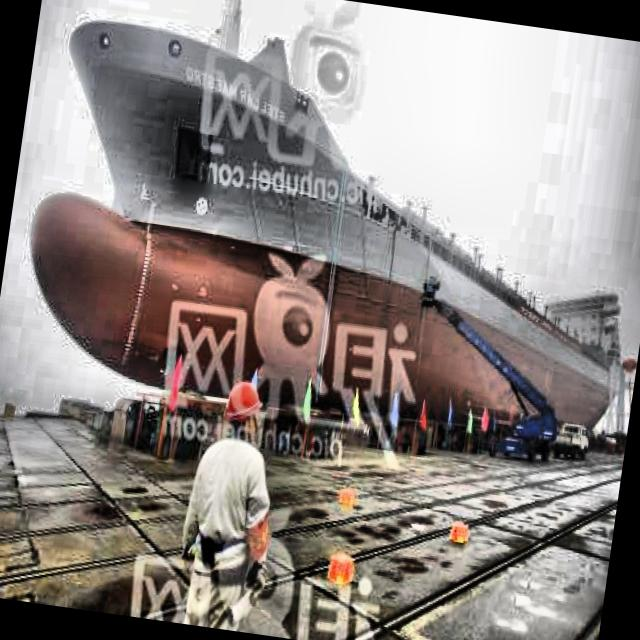helmet: (222, 374, 266, 440)
